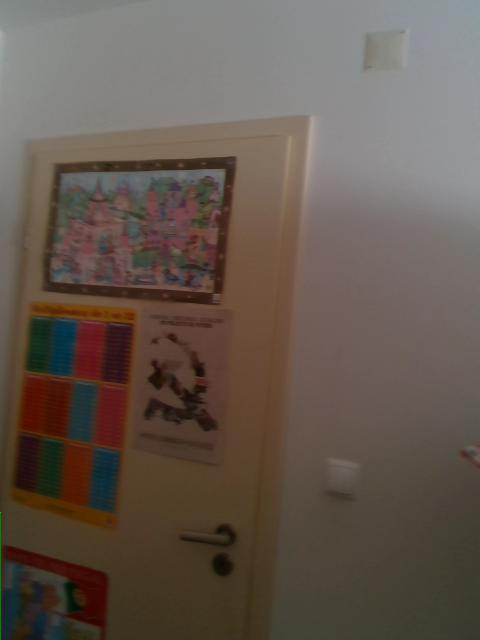door: (0, 113, 312, 638)
